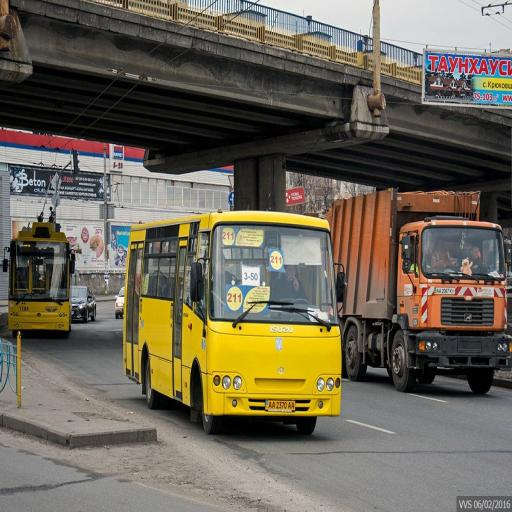glass_wall: (0, 269, 512, 512)
